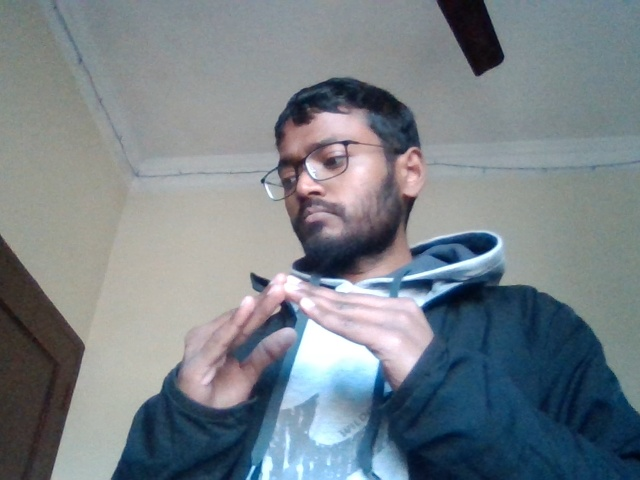house: (186, 278, 452, 403)
